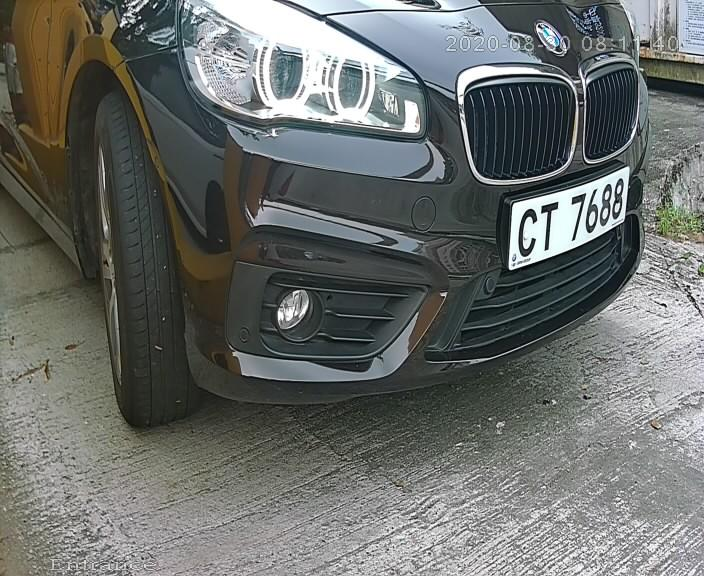Car: (48, 11, 701, 451)
License Plate: (497, 163, 632, 283)
